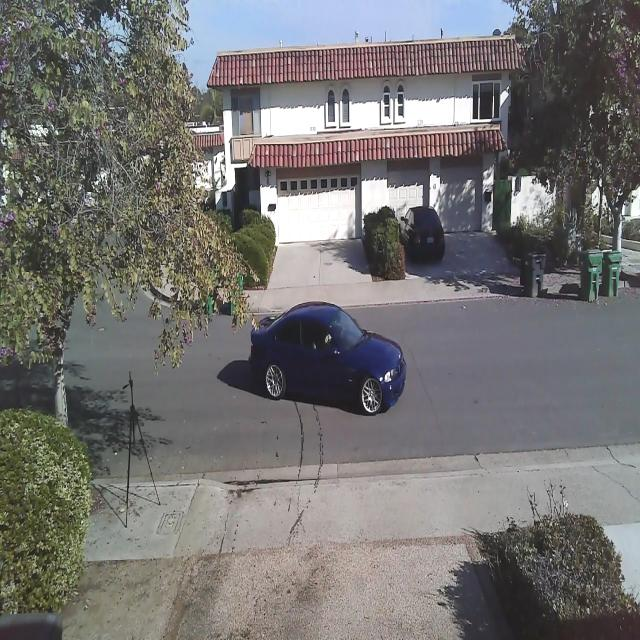Carbeetle: (246, 292, 414, 426)
Civilian: (399, 205, 446, 264)
